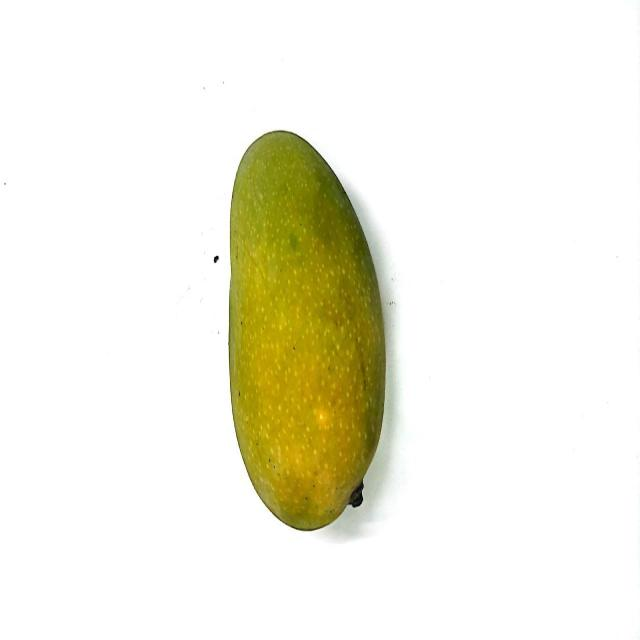fresh_mango: (227, 127, 387, 533)
